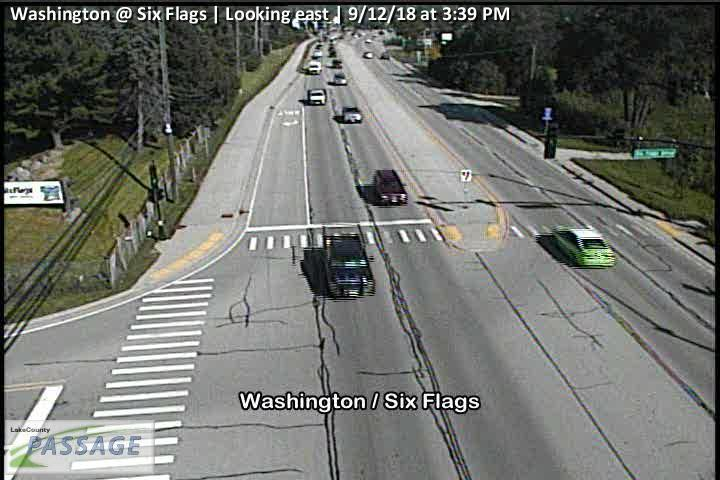SUV: (320, 233, 377, 302), (372, 168, 409, 206), (341, 105, 363, 124), (308, 87, 327, 106), (306, 60, 322, 74), (333, 73, 346, 85), (363, 50, 374, 59), (379, 51, 390, 60), (312, 48, 322, 57)
Sedan: (551, 222, 617, 270), (331, 58, 343, 69)
